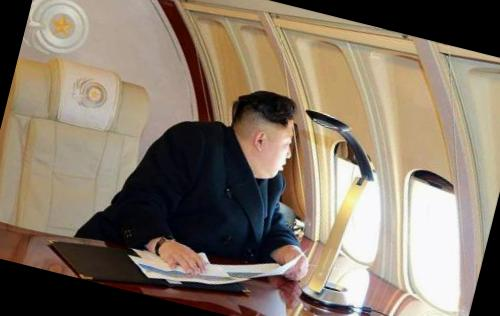no_helmet: (216, 82, 310, 180)
